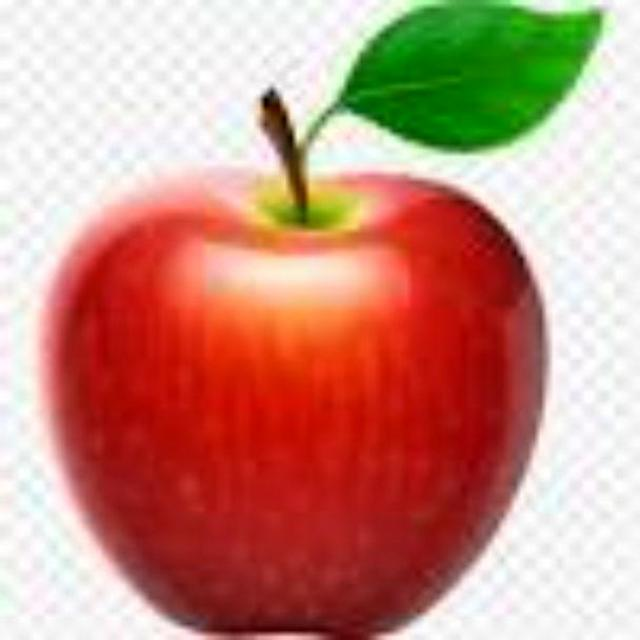HEALTHY: (25, 136, 565, 632)
